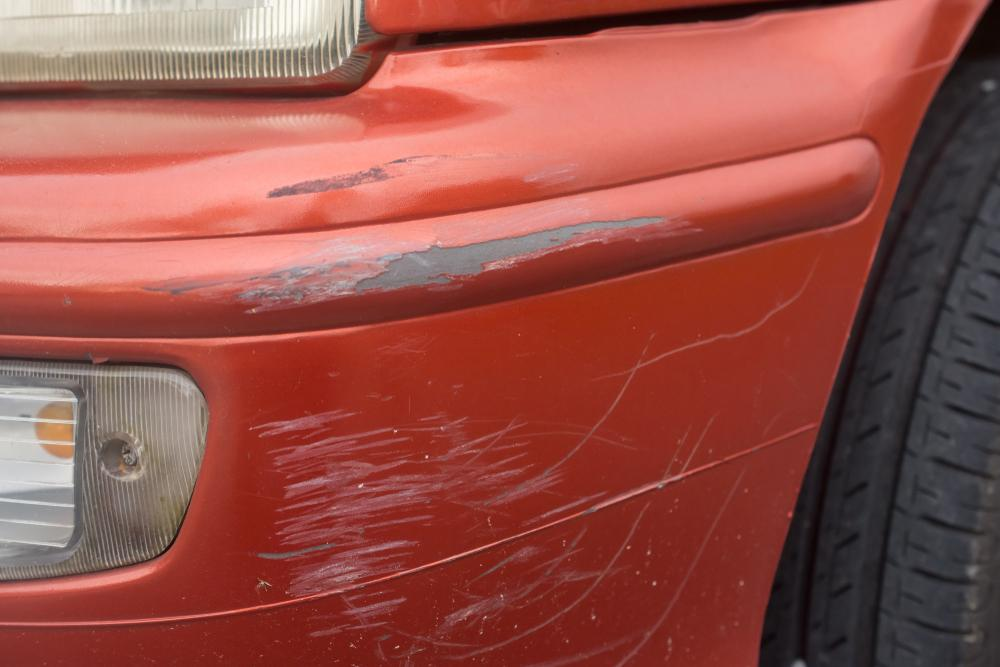scratch: (251, 281, 811, 667), (194, 145, 739, 325)
